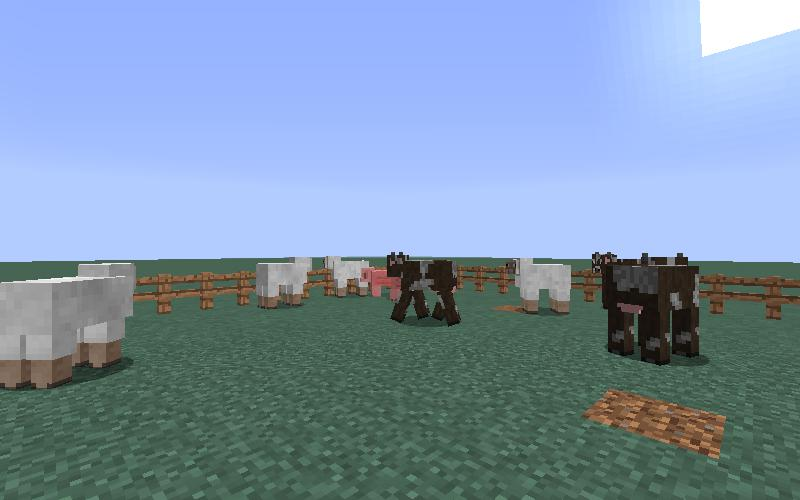cow: (592, 250, 700, 367), (381, 250, 466, 328)
pig: (361, 267, 401, 301)
sheep: (1, 258, 138, 397), (501, 252, 576, 318), (254, 252, 315, 311), (321, 256, 372, 296)
